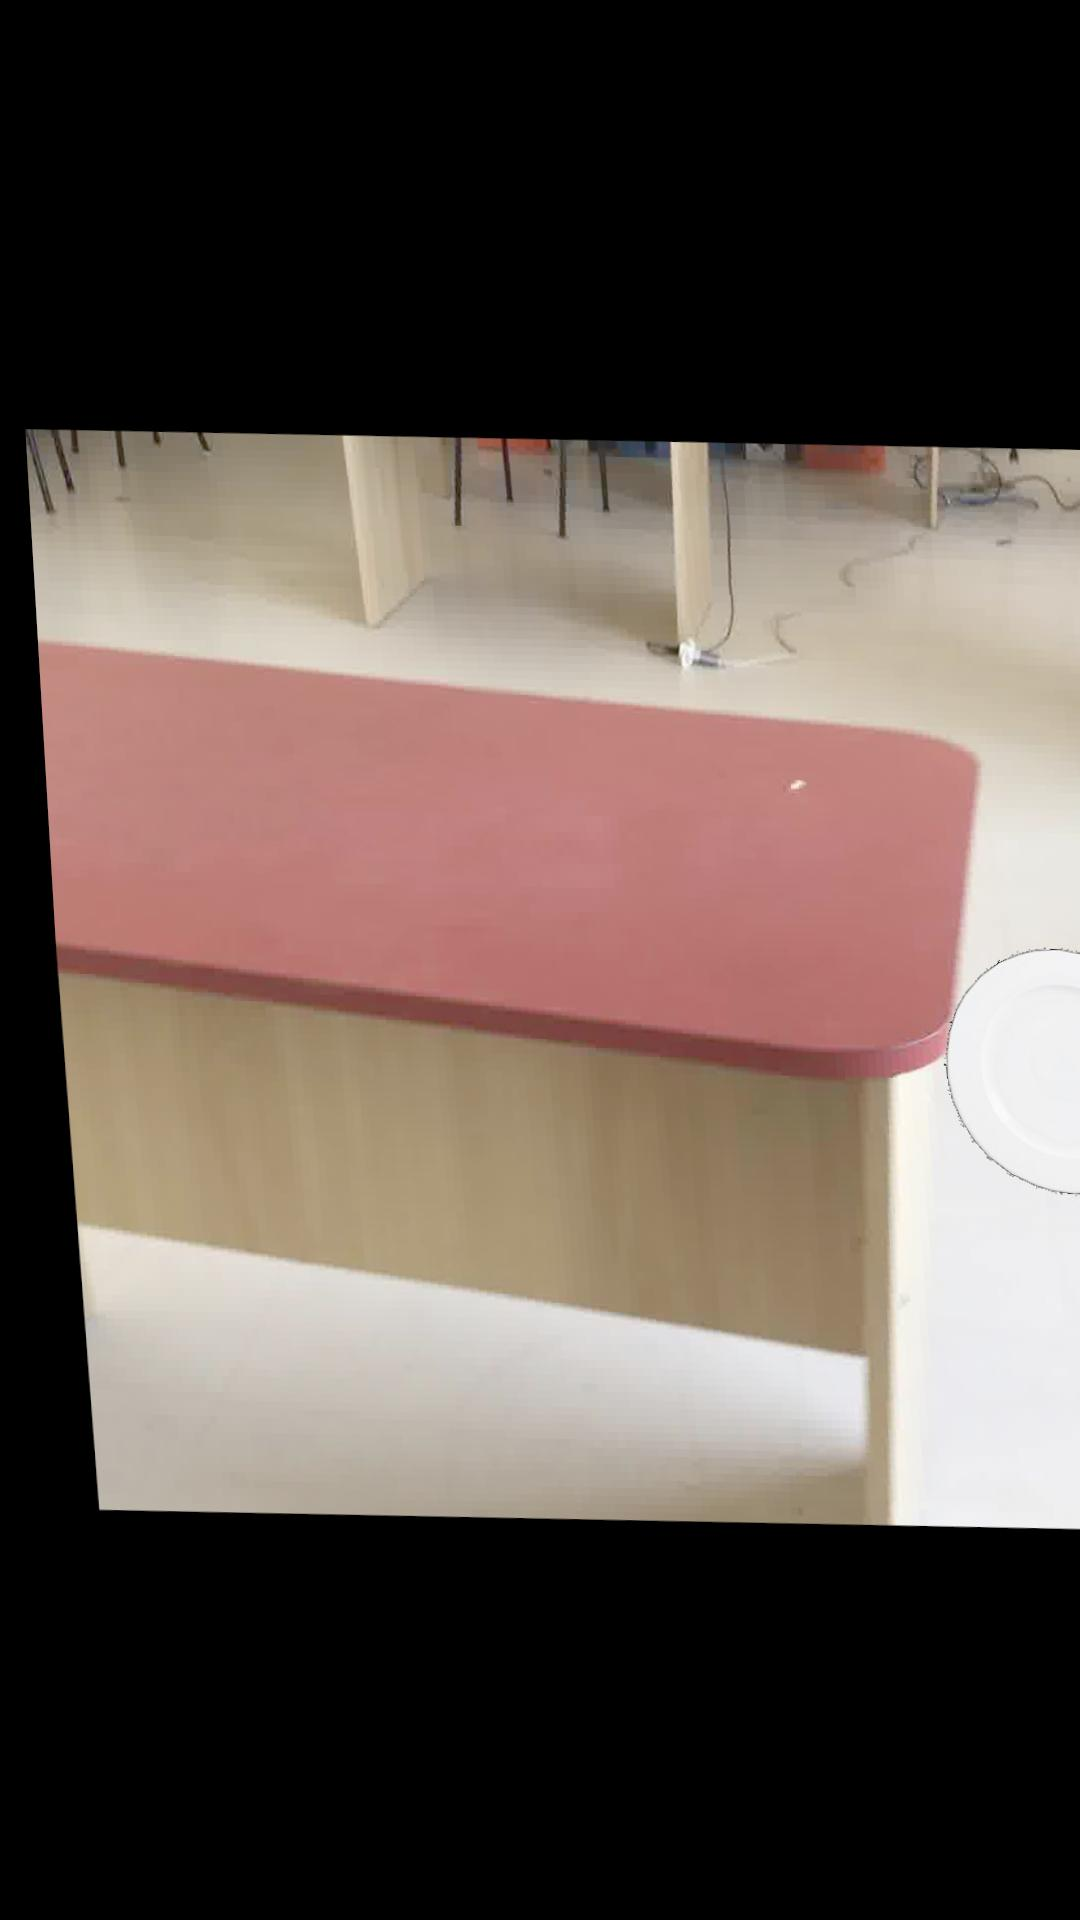plate: (931, 943, 1080, 1188)
